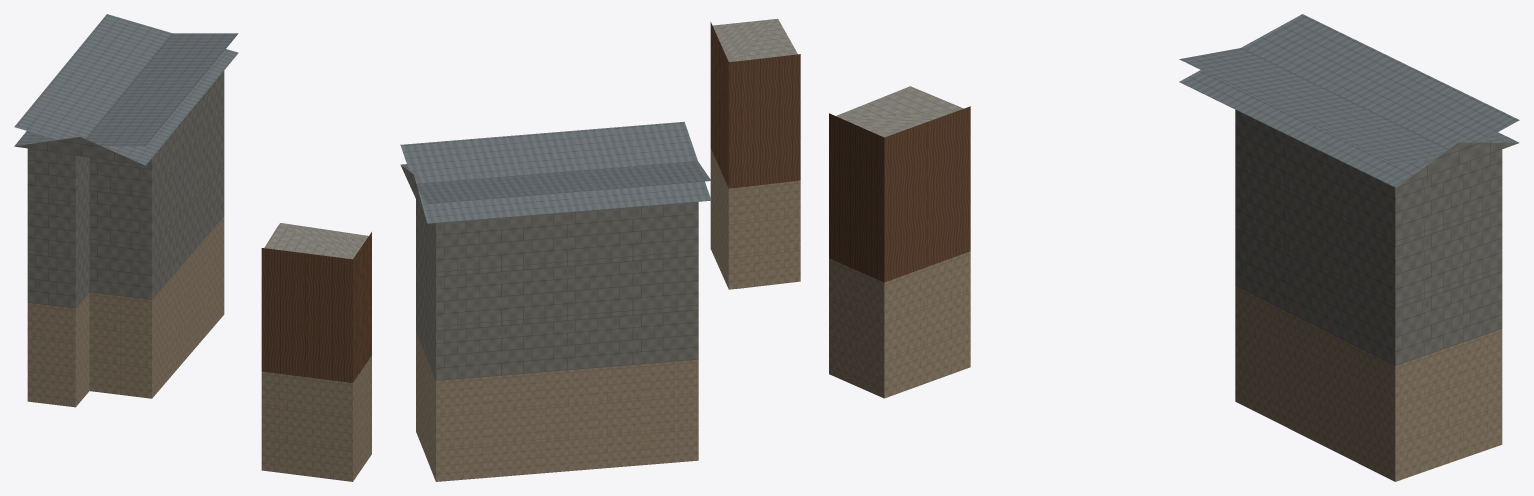
File: bld_c15_25_398.gltf
3 views of the same model, side by side, from view 1: azimuth 30°, elevation 25°; view 2: azimuth 150°, elevation 25°; view 3: azimuth 270°, elevation 25° (orthographic). The views are drawn at different scales.
Parts seen in each view (by area): view 1: bld_c15_25_398; view 2: bld_c15_25_398; view 3: bld_c15_25_398.
Part boxes in pixels (left/top/right/bottom): bld_c15_25_398: left=14, top=14, right=371, bottom=481; bld_c15_25_398: left=400, top=18, right=800, bottom=481; bld_c15_25_398: left=829, top=14, right=1519, bottom=481.
Size of the model in its own units: 14.28 by 14.3 by 27.54.
Materials: 7 (7 with a texture image).
